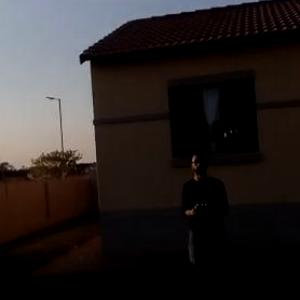follow: (164, 142, 234, 299)
